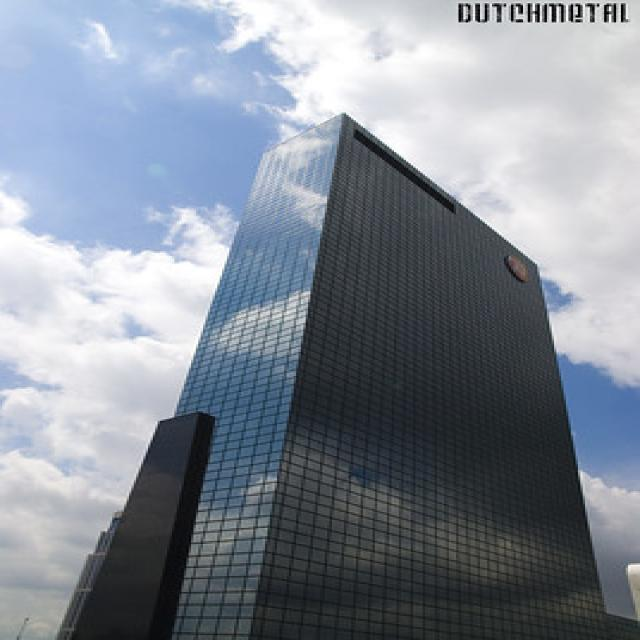building: (50, 110, 614, 640)
